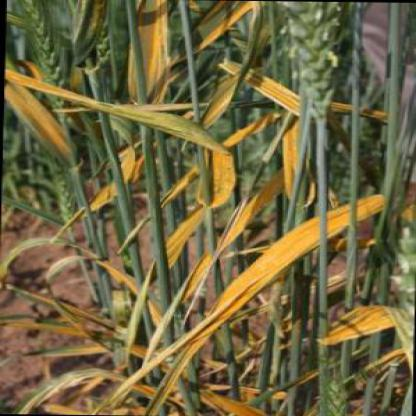Wheat-Yellow-rust: (142, 25, 161, 77), (207, 155, 232, 190), (349, 314, 378, 330), (7, 89, 32, 104), (22, 108, 46, 123), (233, 277, 256, 292), (282, 144, 296, 168), (360, 199, 383, 213), (283, 238, 302, 252), (264, 256, 285, 266), (264, 83, 281, 95), (332, 215, 347, 228), (228, 223, 235, 240), (300, 228, 314, 236)
